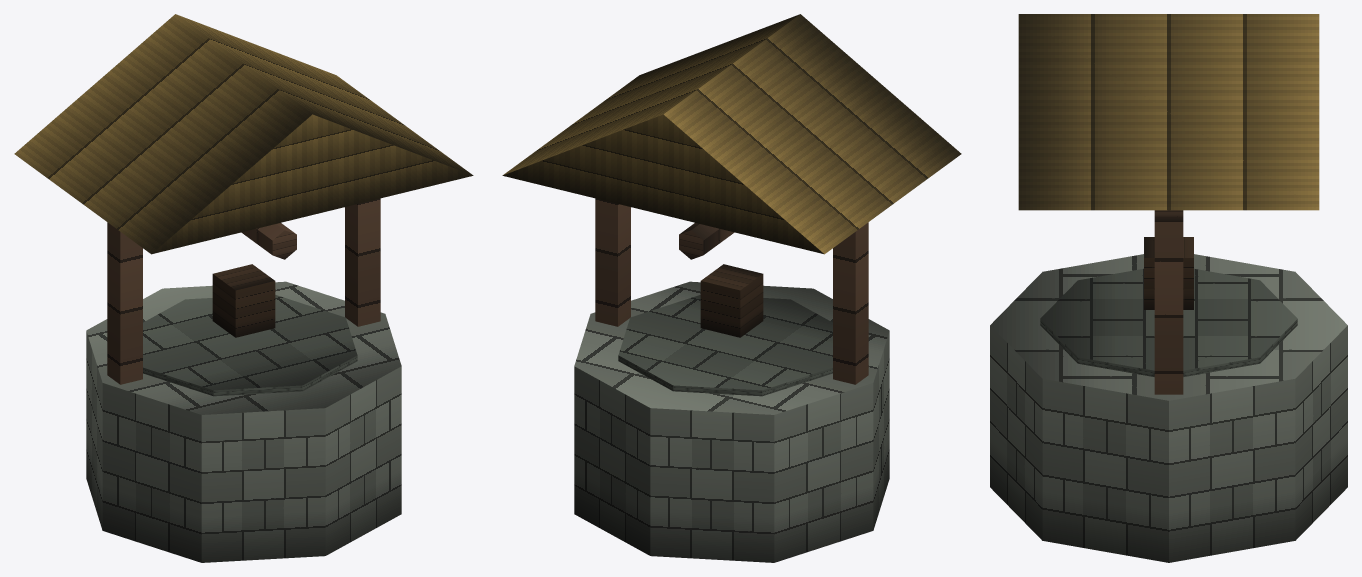
File: well.glb
3 views of the same model, side by side, from view 1: azimuth 30°, elevation 25°; view 2: azimuth 150°, elevation 25°; view 3: azimuth 270°, elevation 25° (orthographic). The views are drawn at different scales.
Visible parts, largest first — view 1: well; view 2: well; view 3: well.
Boxes of the visible parts, x1,y1,x2,y2 form: well: (14,14,473,562); well: (502,14,961,562); well: (990,14,1347,562).
Bounding box in the file's own units: 1.14 × 1.46 × 1.
Materials: 1 (1 with a texture image).
